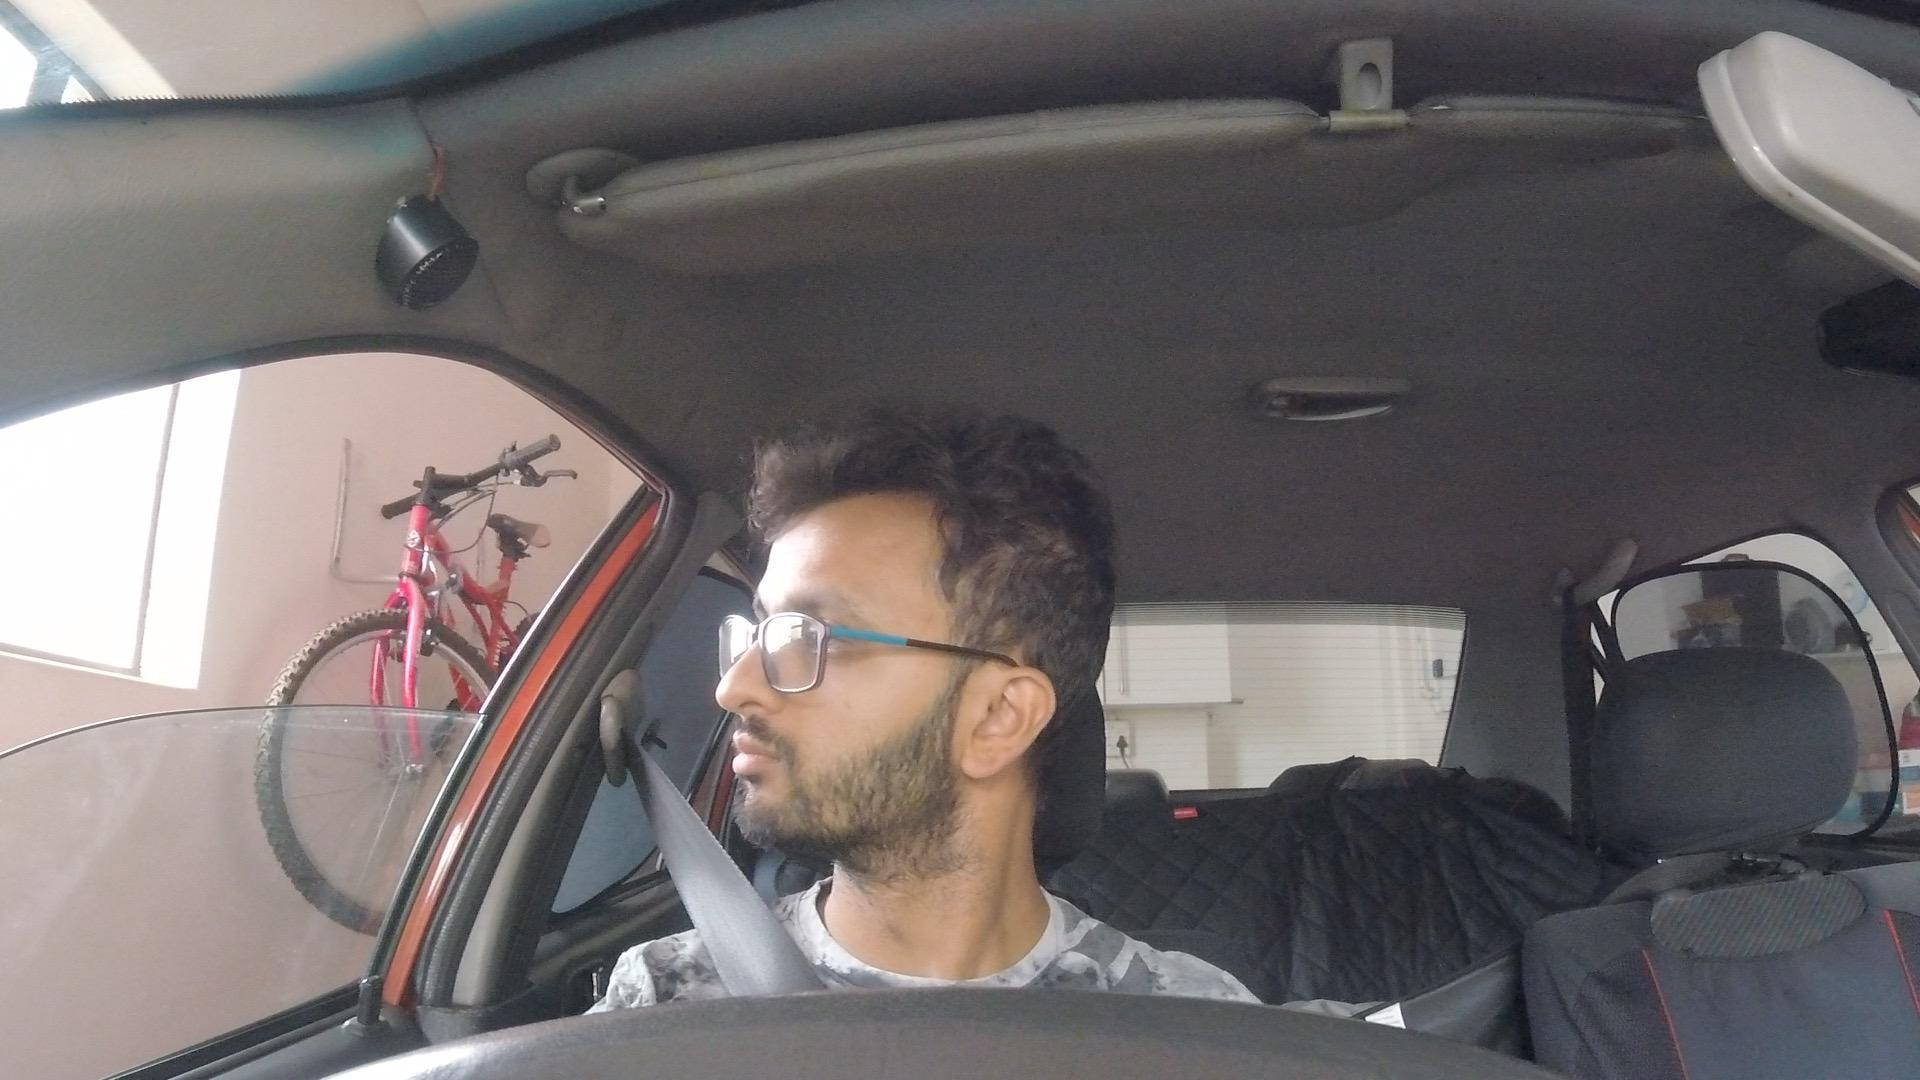SafeDriving: (707, 410, 1114, 872)
